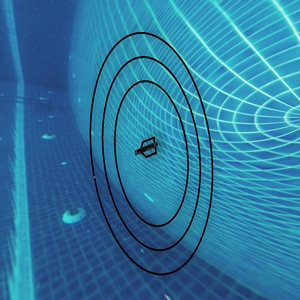circle: (61, 28, 243, 274)
submarine: (140, 136, 159, 157)
